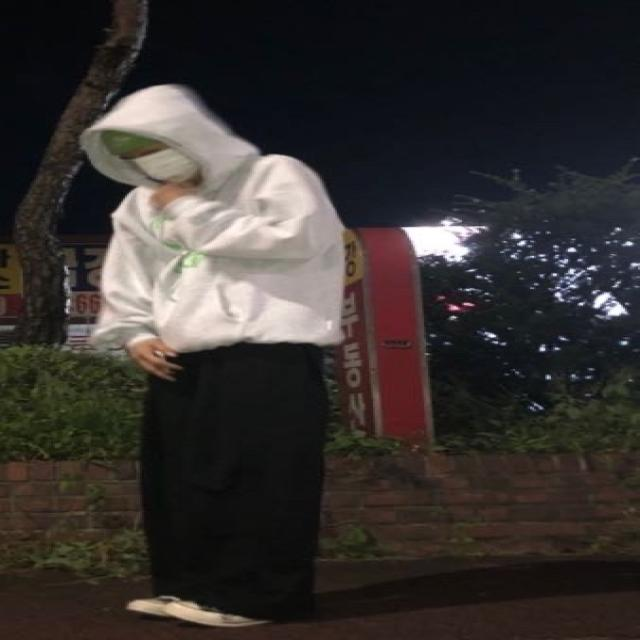hoodies: (87, 85, 344, 355)
slacks: (143, 338, 332, 617)
